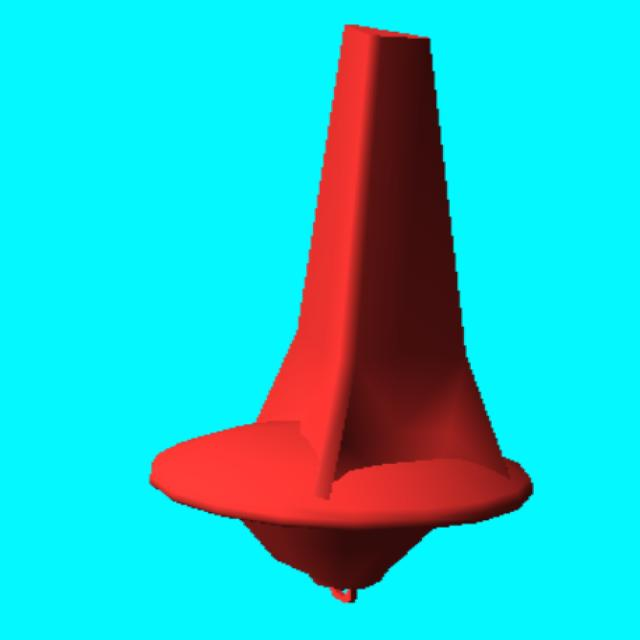RedBuoy: (150, 25, 532, 594)
